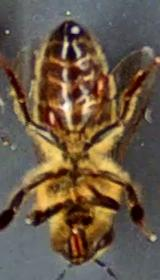varroa_mite: (31, 106, 74, 132), (86, 71, 115, 94)
